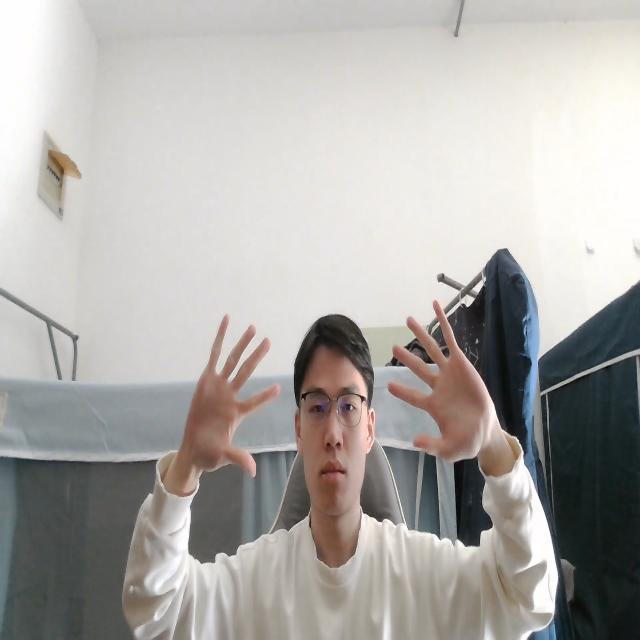five: (387, 298, 499, 466), (177, 310, 281, 480)
